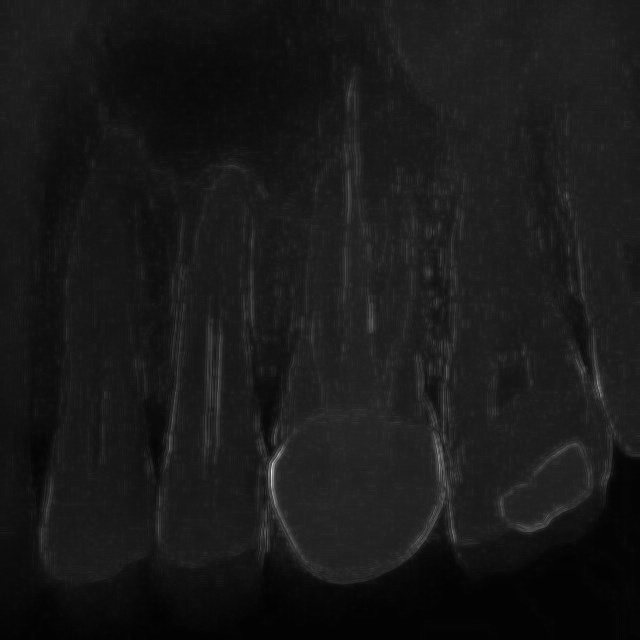Class 0- No endodontic treatment: (257, 51, 467, 440)
cavity: (34, 129, 165, 512), (151, 156, 271, 499)
